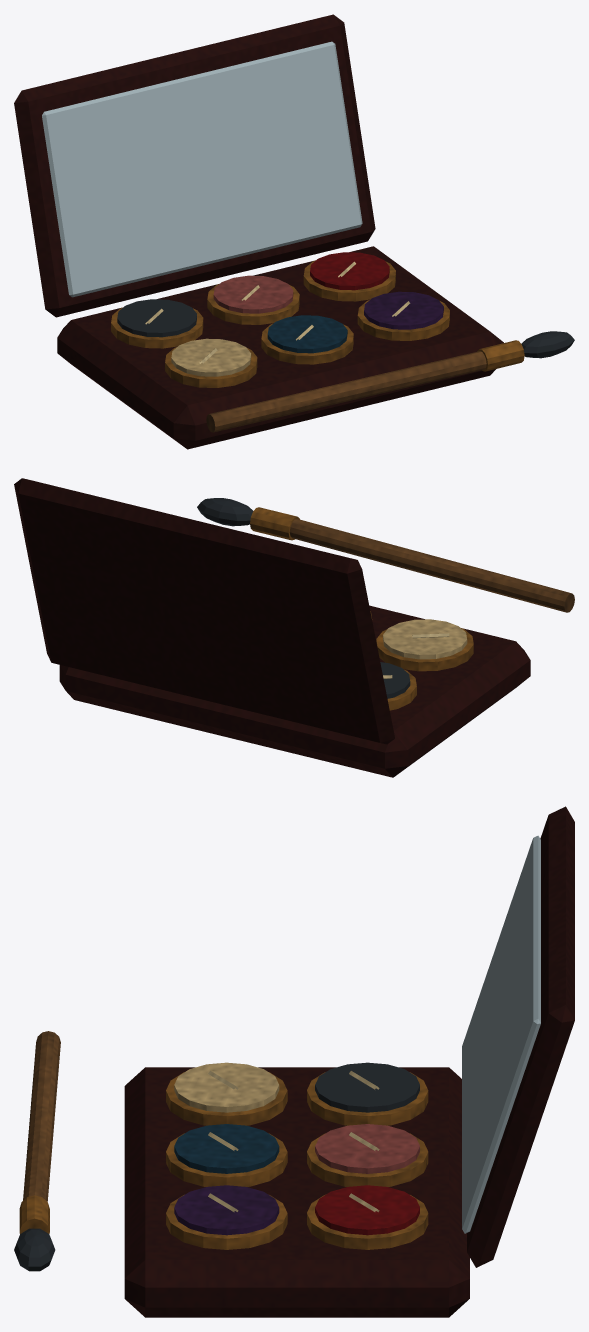
The model's file is makeup_palette.glb.
3 renders of one model, top to bottom at view 1: azimuth 30°, elevation 25°; view 2: azimuth 150°, elevation 25°; view 3: azimuth 270°, elevation 25°, orthographic. The views are drawn at different scales.
Parts seen in each view (by area): view 1: makeup_palette; view 2: makeup_palette; view 3: makeup_palette.
Boxes of the visible parts, box(x1,y1,x2,y2) form: makeup_palette: box(14, 14, 574, 449); makeup_palette: box(14, 478, 574, 777); makeup_palette: box(14, 806, 574, 1317).
Bounding box in the file's own units: 0.3888 × 0.2521 × 0.4061.
Materials: 11 (9 with a texture image).
